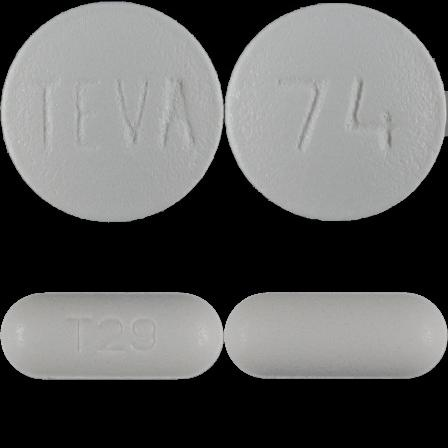61786-594: (0, 0, 224, 224)
